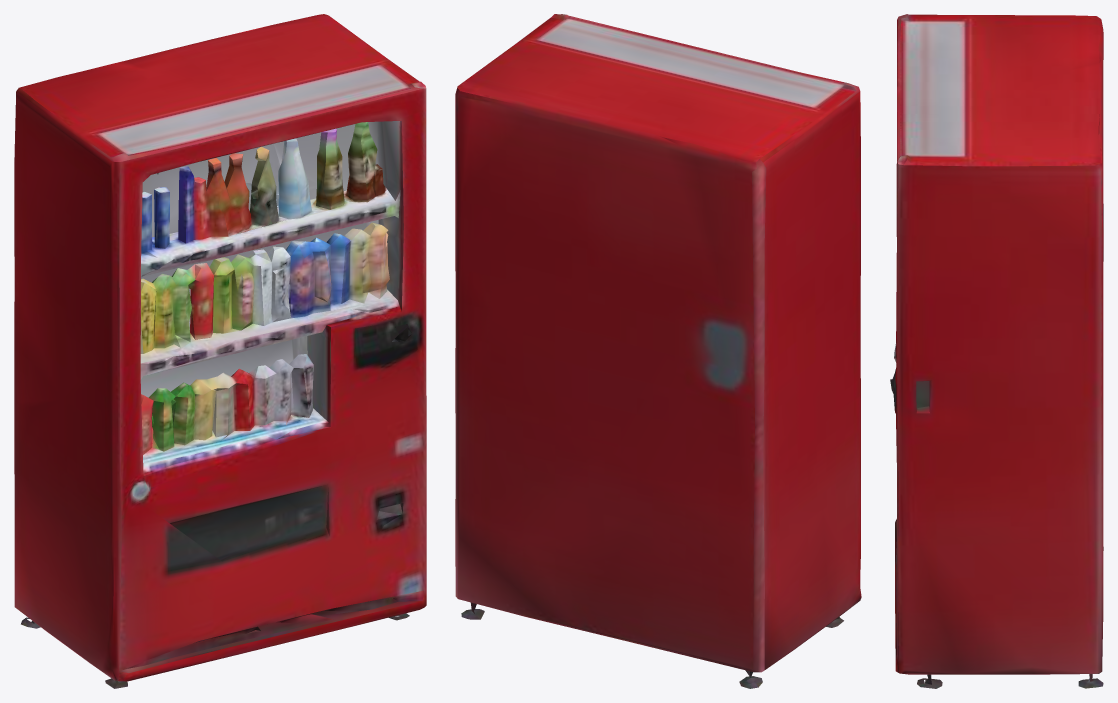
The model's file is vending.glb.
3 views of the same model, side by side, from view 1: azimuth 30°, elevation 25°; view 2: azimuth 150°, elevation 25°; view 3: azimuth 270°, elevation 25° (orthographic).
Parts seen in each view (by area): view 1: vending; view 2: vending; view 3: vending.
Boxes of the visible parts, x1=… form: vending: x1=14, y1=14, x2=426, y2=688; vending: x1=455, y1=14, x2=861, y2=688; vending: x1=890, y1=14, x2=1103, y2=688.
Bounding box in the file's own units: 1.12 × 1.85 × 0.674.
1 material, 1 textured.
